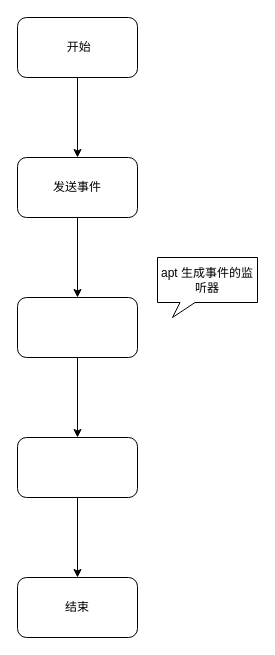
The diagram is 275 pixels wide and 655 high, and some of its shapes have lost their labels. Each missing label, with the box of its shape:
发送事件到注册的监听器: (16, 436, 138, 498)
查找注册的监听: (16, 296, 138, 358)
